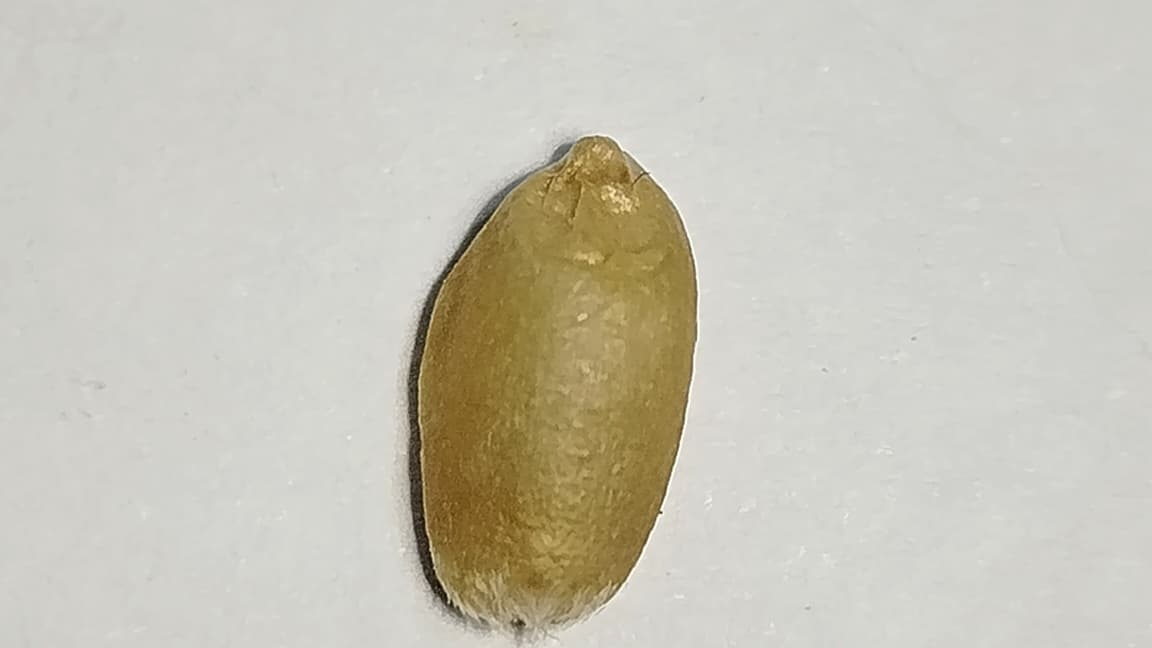healthy: (417, 135, 696, 623)
